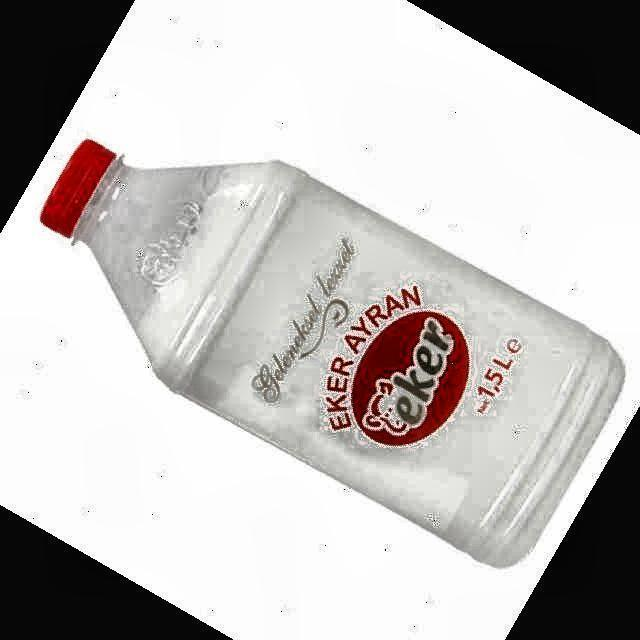plastic: (41, 141, 624, 566)
